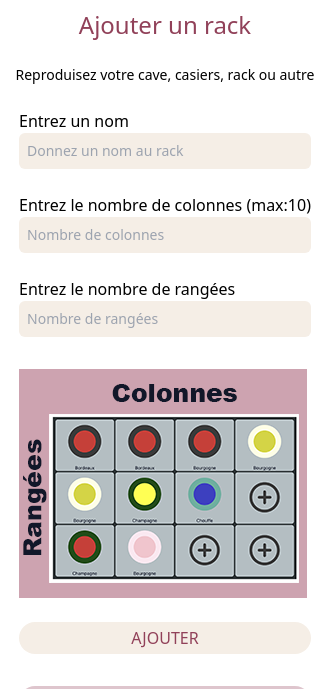
Test: AddRackPage › limite le nombre de colonnes à 10
The image size is (331, 689).
Type "Nouveau Rack test" into the field labelled "Entrez un nom" at (165, 151), box [19,133,311,169]
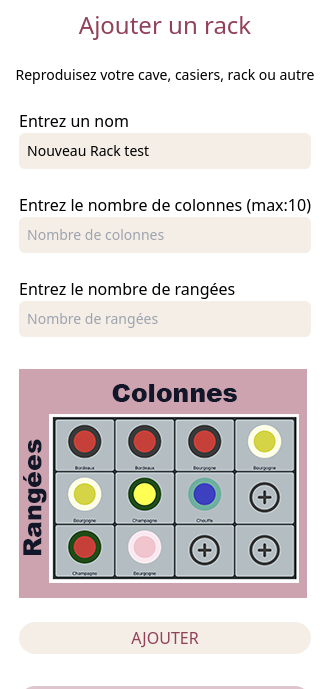
Type "11" into the number field with placeholder "Nombre de colonnes" at (165, 235), box [19,217,311,253]
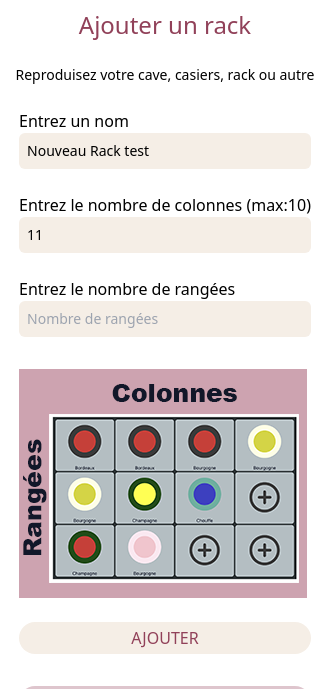
Type "3" into the number field with placeholder "Nombre de rangées" at (165, 319), box [19,301,311,337]
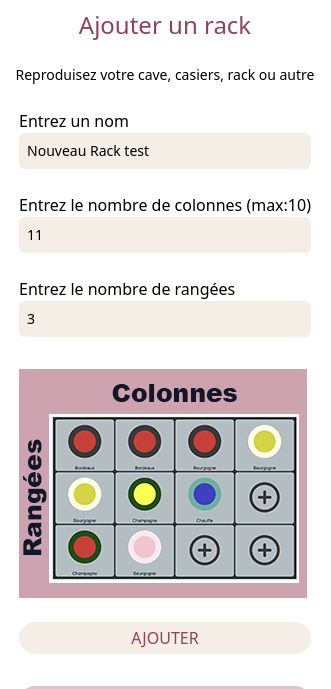
Click the button "AJOUTER" at (165, 638), box [19,622,311,654]
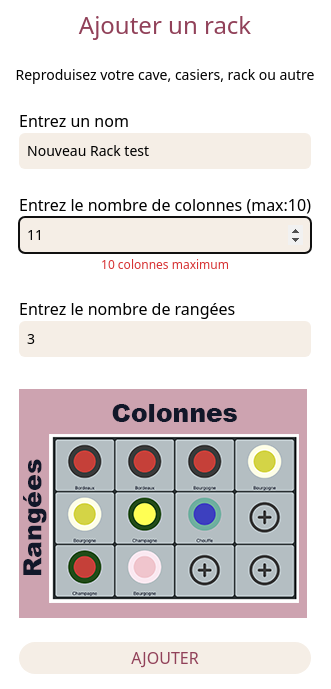
Expected: the text "10 colonnes maximum" is shown, [101,256,229,273]
